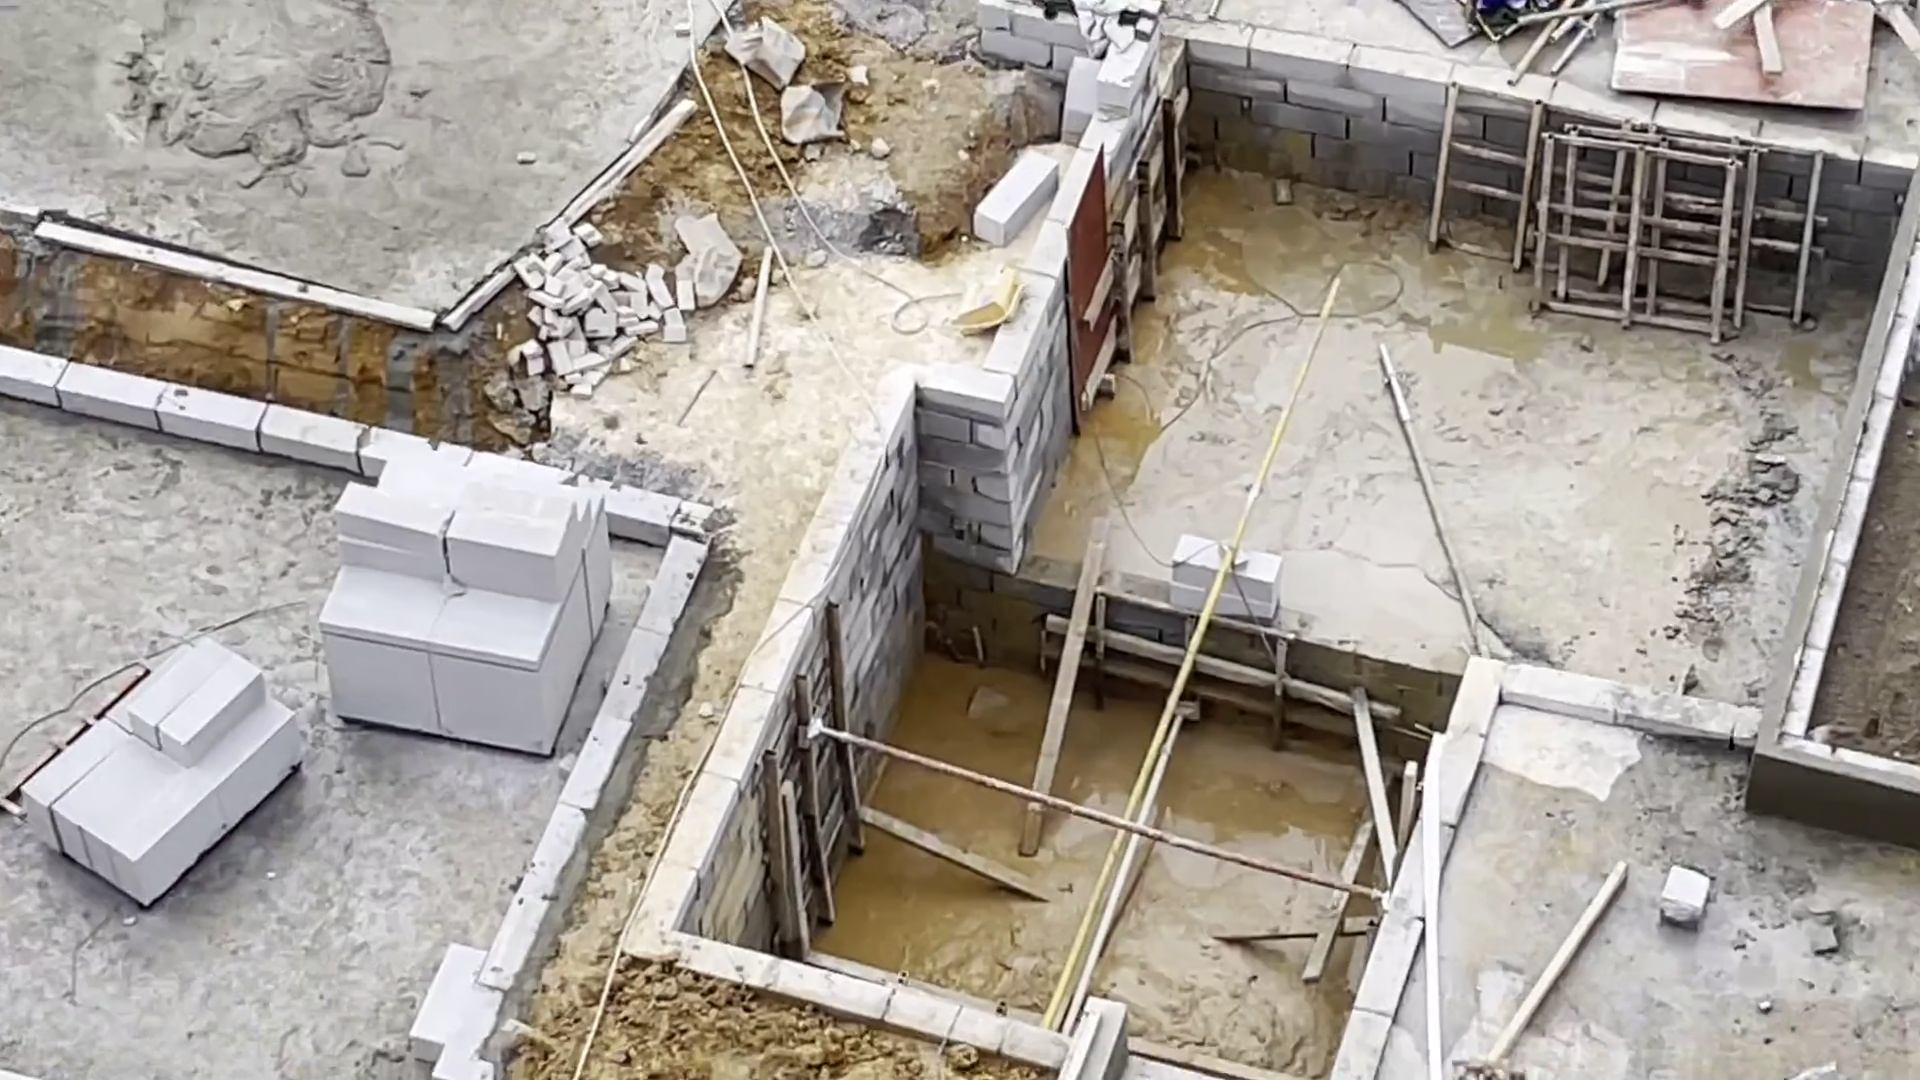brick: (318, 446, 615, 760), (17, 625, 309, 914)
